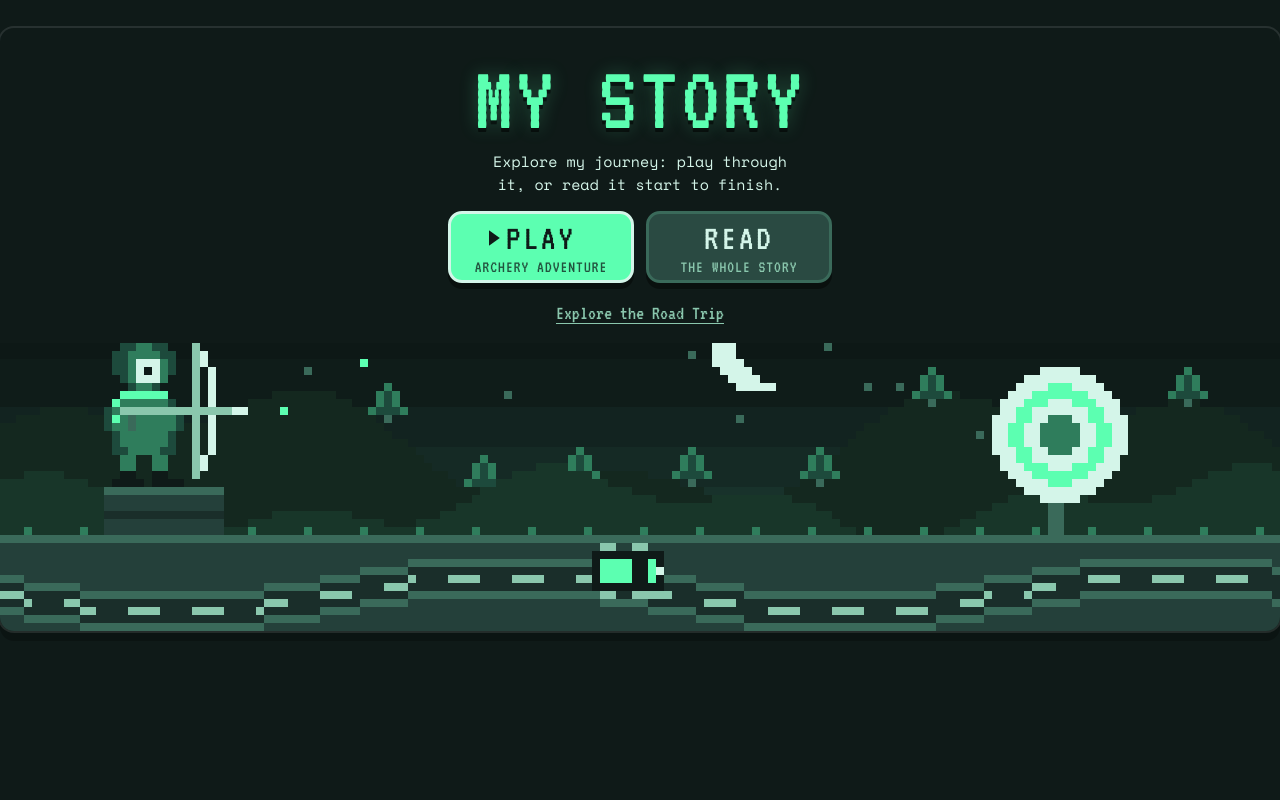
opening it › the archery game's Road Trip button closes the game first, then opens this (one dialog at a time)
Click the button "Play archery adventure": x=541, y=247 [448,211,634,283]
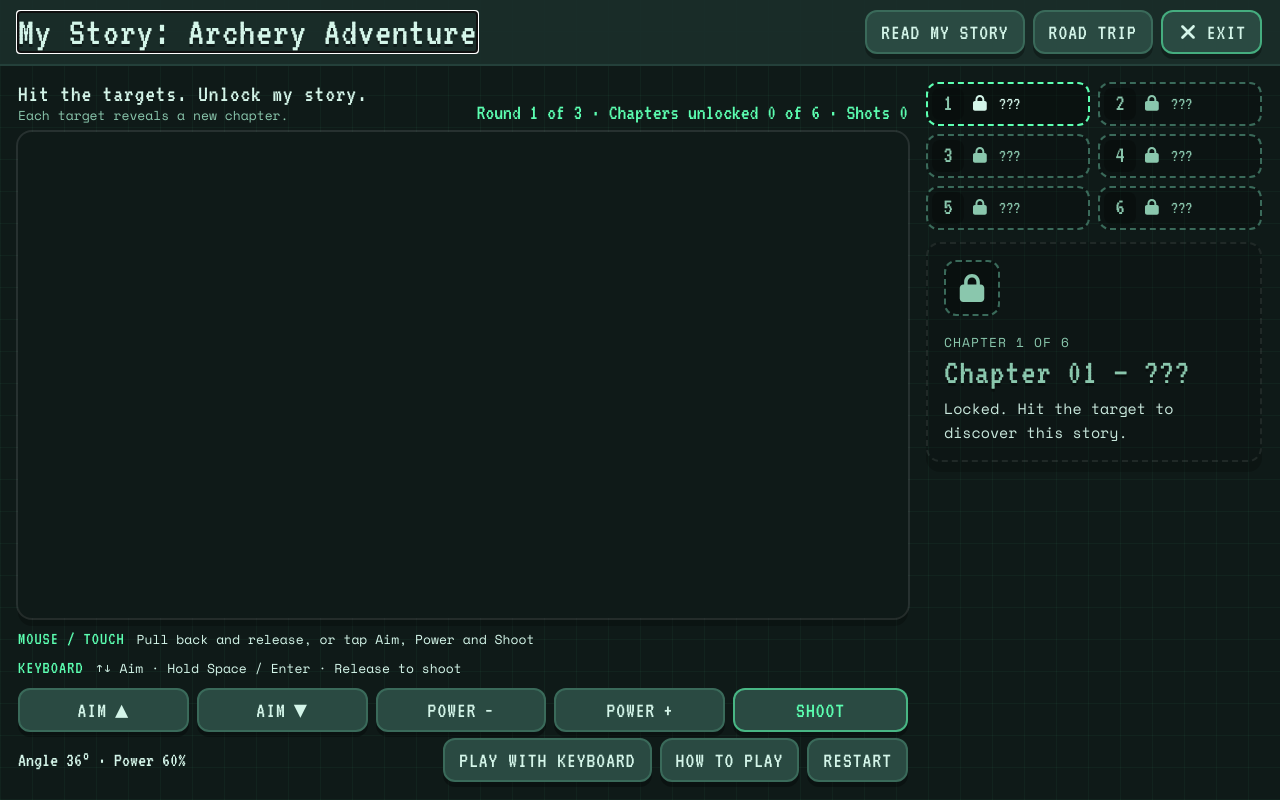
Click the button "Road Trip": x=1093, y=32 [1033,10,1153,54]
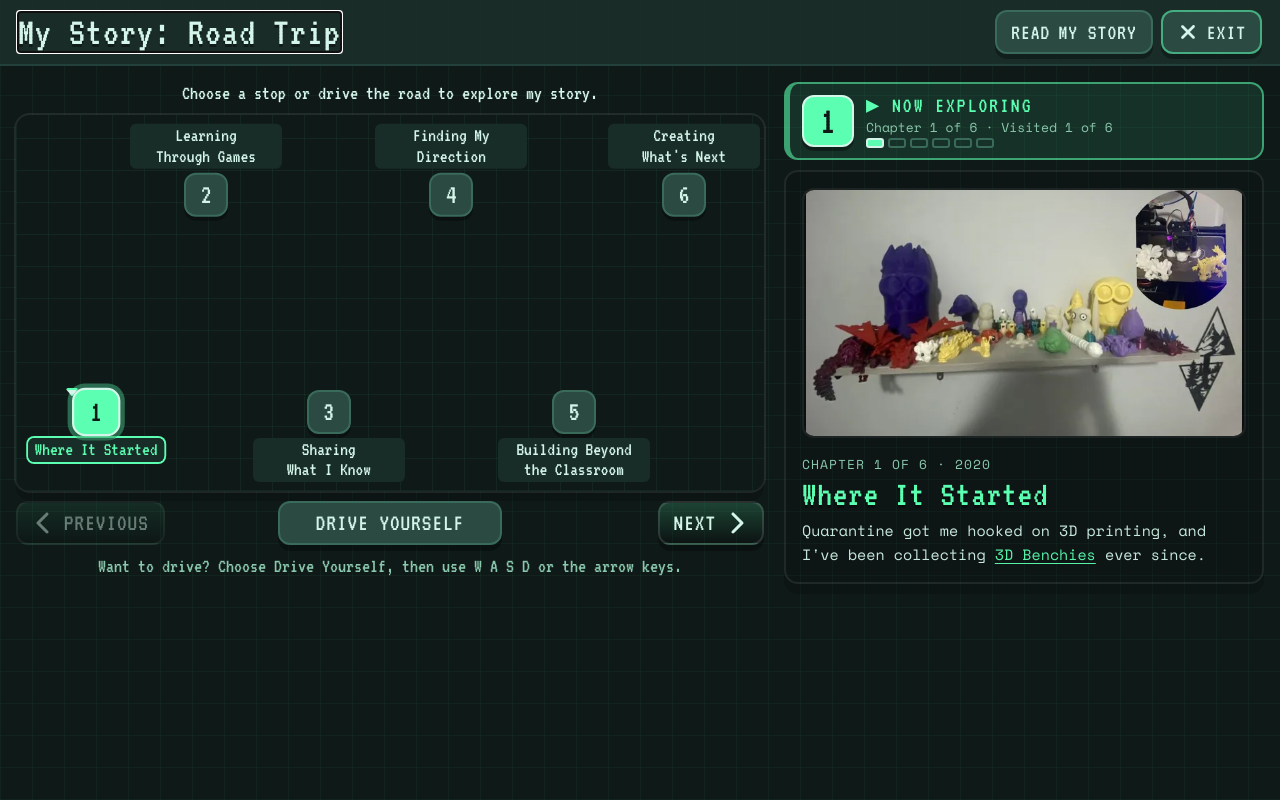
Check: the dialog "My Story: Road Trip" is shown
Check: the number of dialogs is 1
Check: the heading "My Story: Archery Adventure" is gone
